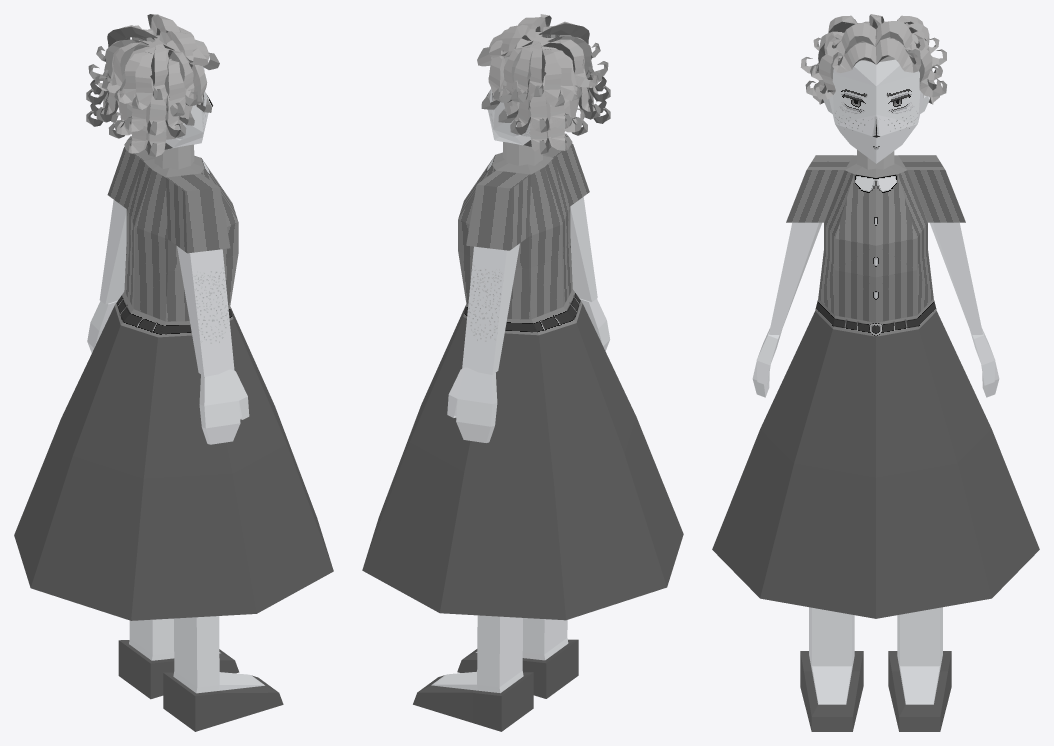
Rendered from modeloyollanda.gltf.
3 views of the same model, side by side, from view 1: azimuth 30°, elevation 25°; view 2: azimuth 150°, elevation 25°; view 3: azimuth 270°, elevation 25° (orthographic).
Parts seen in each view (by area): view 1: Vestido, Sapato, Cabeça, Palma Esq, Cabelo7.003, Cabelo7.001, Cabelo3, Meio Esq, Cabelo7, Cabelo7.004, Cabelo7.002, Cabelo5 (+7 smaller); view 2: Vestido, Sapato, Cabeça, Palma Esq, Cabelo7.001, Cabelo7.003, Cabelo3, Meio Esq, Cabelo7.002, Cabelo7, Cabelo7.004, Pescoço (+7 smaller); view 3: Vestido, Sapato, Cabeça, Cabelo3, Cabelo1, Cabelo2, Dedão Esq, Cabelo7, Cabelo7.001.
Boxes of the visible parts, x1=… form: Vestido: x1=14, y1=145, x2=333, y2=620; Sapato: x1=118, y1=616, x2=283, y2=731; Cabeça: x1=117, y1=35, x2=212, y2=149; Palma Esq: x1=90, y1=300, x2=238, y2=405; Cabelo7.003: x1=88, y1=39, x2=153, y2=109; Cabelo7.001: x1=96, y1=25, x2=174, y2=99; Cabelo3: x1=147, y1=14, x2=208, y2=65; Meio Esq: x1=87, y1=322, x2=240, y2=428; Cabelo7: x1=122, y1=25, x2=185, y2=116; Cabelo7.004: x1=94, y1=46, x2=151, y2=103; Cabelo7.002: x1=101, y1=42, x2=149, y2=93; Cabelo5: x1=132, y1=29, x2=202, y2=106; Vestido: x1=362, y1=142, x2=683, y2=620; Sapato: x1=413, y1=615, x2=578, y2=731; Cabeça: x1=486, y1=32, x2=584, y2=146; Palma Esq: x1=457, y1=298, x2=606, y2=403; Cabelo7.001: x1=522, y1=21, x2=600, y2=96; Cabelo7.003: x1=542, y1=36, x2=608, y2=106; Cabelo3: x1=489, y1=14, x2=551, y2=57; Meio Esq: x1=456, y1=320, x2=610, y2=426; Cabelo7.002: x1=542, y1=39, x2=597, y2=87; Cabelo7: x1=510, y1=34, x2=591, y2=102; Cabelo7.004: x1=545, y1=49, x2=602, y2=100; Pescoço: x1=502, y1=142, x2=542, y2=165; Vestido: x1=712, y1=155, x2=1039, y2=618; Sapato: x1=800, y1=607, x2=951, y2=731; Cabeça: x1=823, y1=37, x2=929, y2=163; Cabelo3: x1=826, y1=20, x2=925, y2=57; Cabelo1: x1=832, y1=38, x2=921, y2=72; Cabelo2: x1=813, y1=44, x2=941, y2=98; Dedão Esq: x1=756, y1=331, x2=995, y2=385; Cabelo7: x1=800, y1=22, x2=946, y2=73; Cabelo7.001: x1=813, y1=15, x2=939, y2=53.
Size of the model in its own units: 3.38 by 7.63 by 3.38.
Materials: 18 (18 with a texture image).
